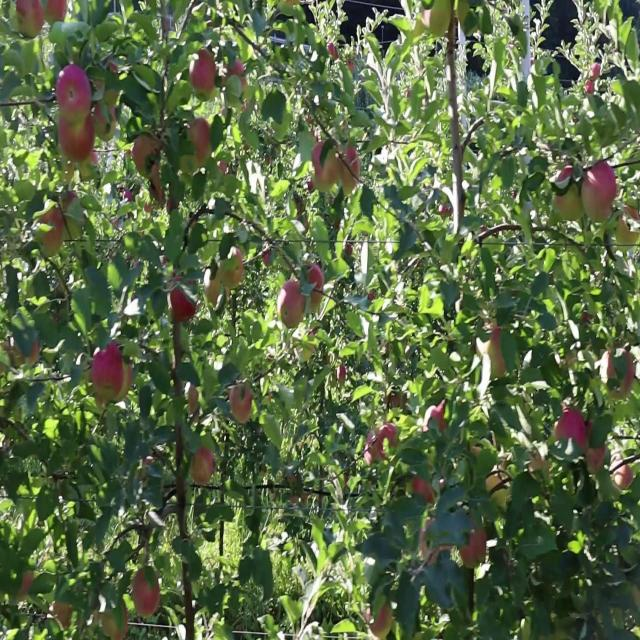apple: (92, 341, 132, 400), (584, 163, 620, 224), (56, 63, 92, 117), (60, 113, 96, 164), (604, 348, 636, 400), (132, 568, 161, 619), (556, 405, 587, 450), (312, 142, 341, 190), (556, 170, 583, 220), (556, 177, 583, 226), (280, 284, 307, 331), (40, 206, 66, 254), (484, 327, 508, 379), (16, 0, 46, 41), (192, 49, 218, 96), (460, 526, 488, 569), (584, 426, 608, 473), (228, 383, 253, 427), (188, 120, 212, 165), (132, 135, 159, 174), (424, 7, 453, 43), (616, 206, 640, 249), (172, 284, 197, 325), (192, 447, 216, 489), (96, 99, 119, 142), (113, 357, 134, 404), (420, 519, 440, 567), (340, 149, 360, 196), (224, 248, 245, 290), (104, 604, 129, 639), (368, 604, 392, 639), (204, 270, 226, 308), (104, 63, 123, 103), (380, 426, 400, 462), (428, 398, 448, 434), (224, 56, 247, 87), (308, 263, 324, 306), (412, 476, 435, 505), (588, 440, 608, 473), (612, 462, 634, 492), (52, 604, 74, 633), (80, 149, 100, 178), (45, 0, 68, 23), (64, 191, 79, 226), (364, 433, 379, 466), (364, 433, 378, 466), (48, 0, 68, 23), (64, 191, 79, 217), (188, 383, 200, 414), (24, 568, 37, 596), (556, 170, 575, 188), (28, 341, 40, 366), (340, 362, 348, 384), (264, 248, 272, 268)
